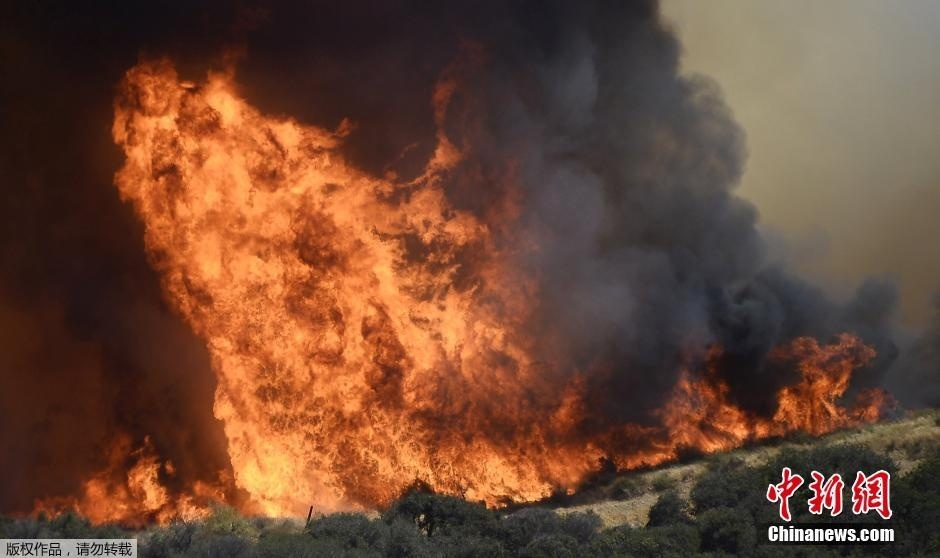fire: (65, 49, 725, 527), (612, 332, 892, 464)
